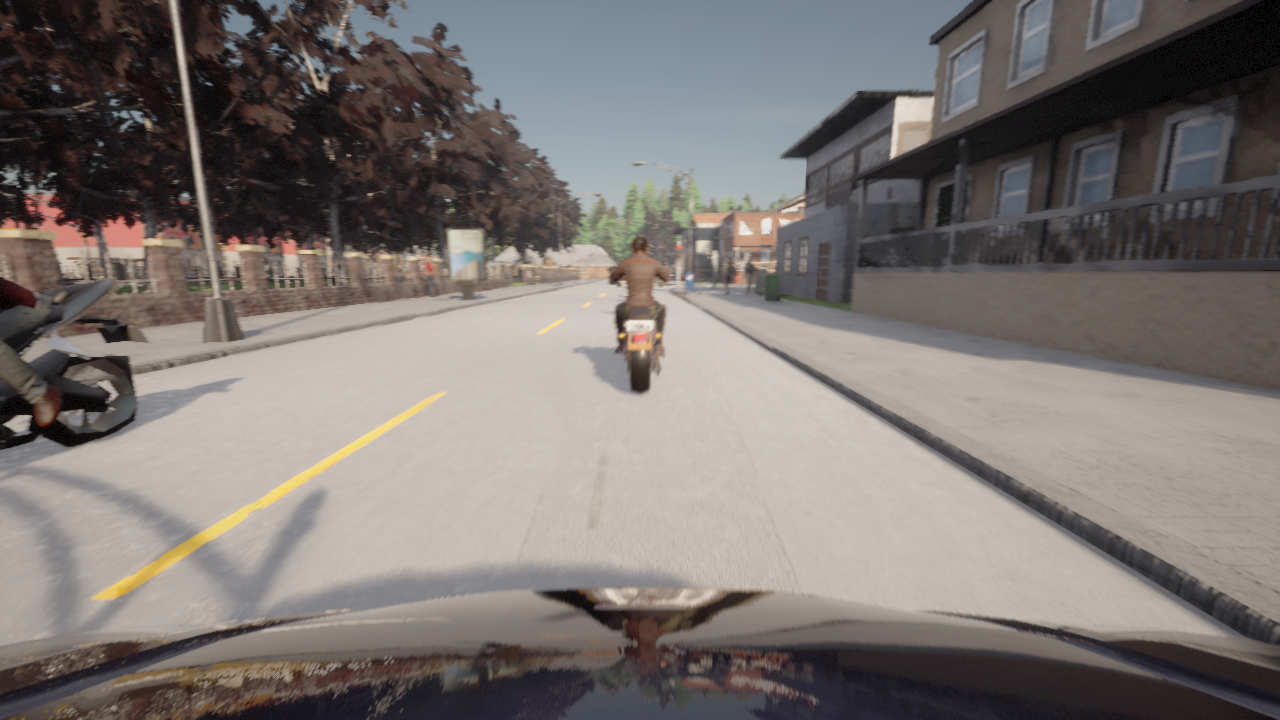cyclist: (0, 588, 1279, 719), (0, 278, 151, 451), (608, 267, 671, 393)
pedestrian: (423, 256, 435, 297), (744, 258, 757, 295), (723, 258, 736, 295), (535, 274, 539, 283)
